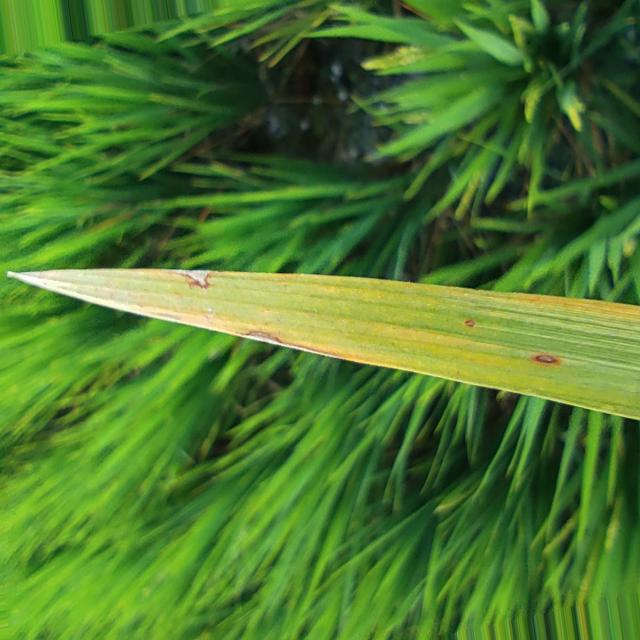Brown_Spot: (171, 270, 210, 289), (241, 330, 284, 345), (534, 353, 558, 363), (465, 318, 476, 328)
